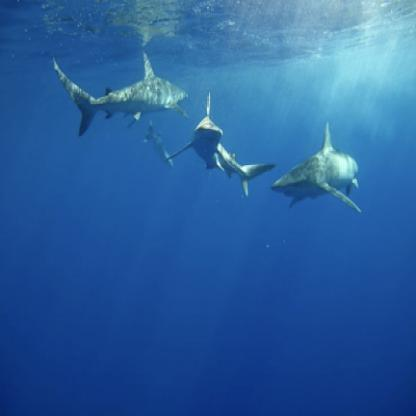shark: (45, 45, 193, 144), (160, 83, 275, 206), (268, 111, 380, 229)
